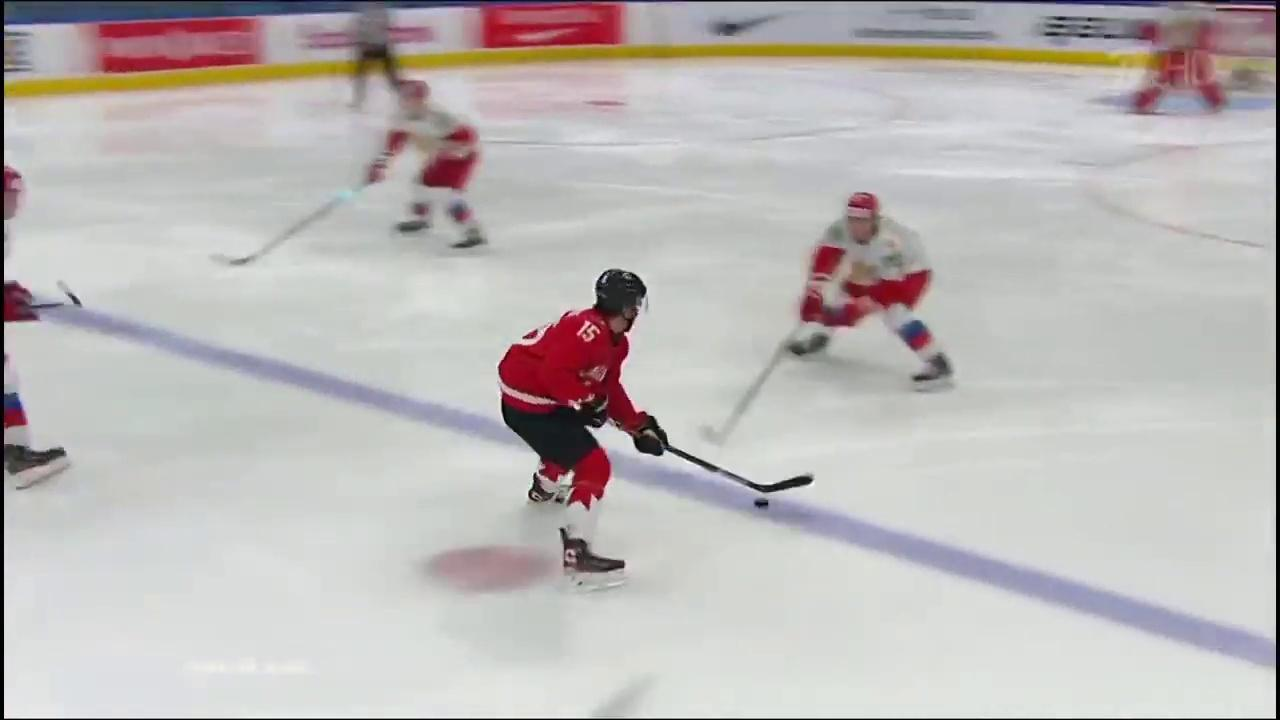ball: (754, 499, 770, 510)
